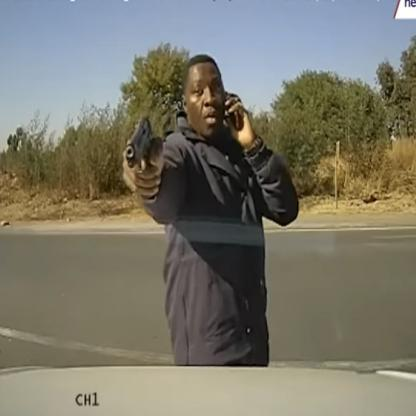criminal: (122, 55, 300, 366)
weapon: (123, 114, 156, 176)
